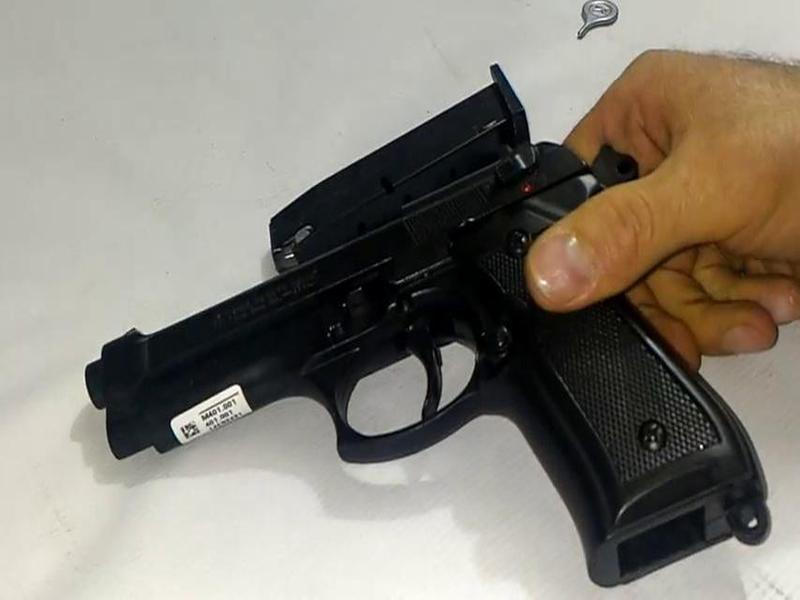Pistola: (67, 189, 767, 573)
